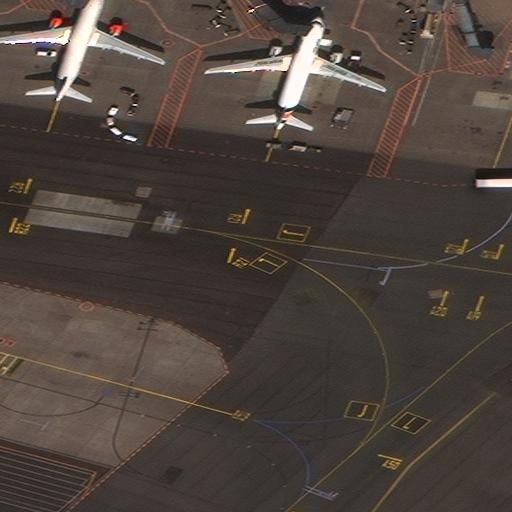Medium Civil Transport: (204, 13, 387, 131), (0, 0, 165, 103)
